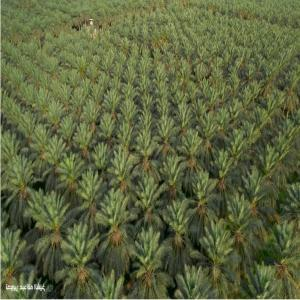palm tree: (0, 1, 300, 298)
